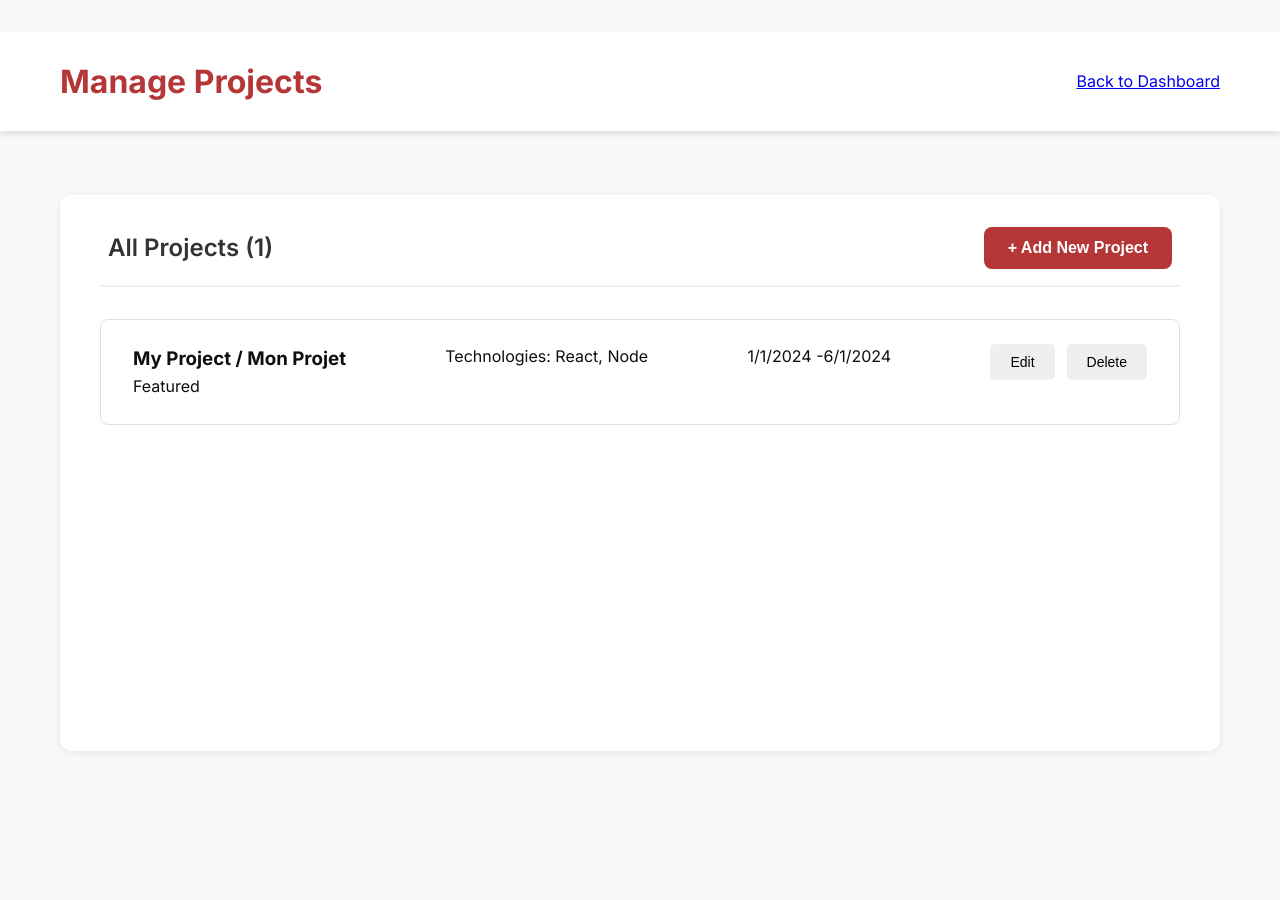
AdminProjects › handles delete error with message fallback
Click the button "Delete" at (1107, 362), box [1066,344,1147,380]
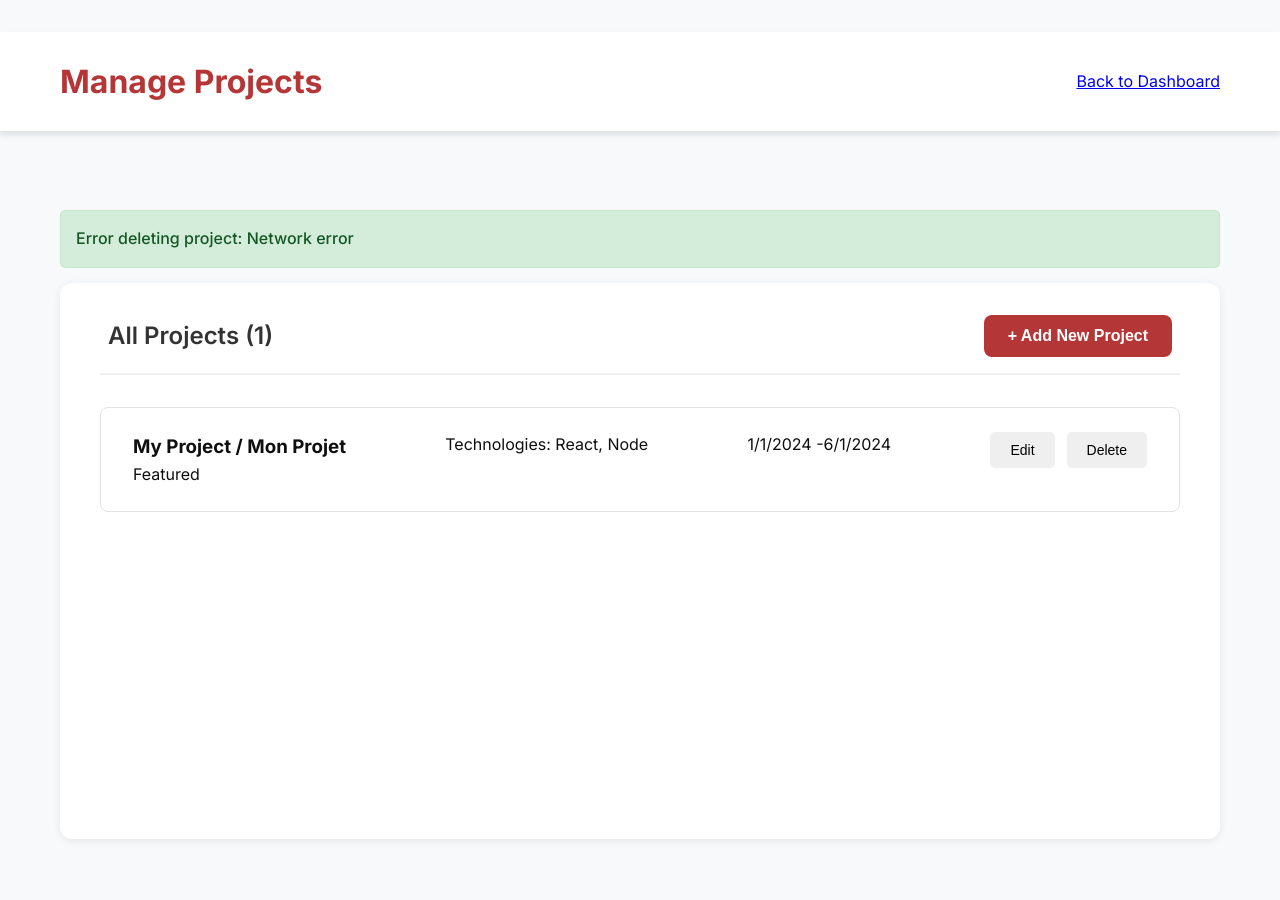
Expected: the text "Error deleting project: Network error" is shown, [60,210,1220,268]
